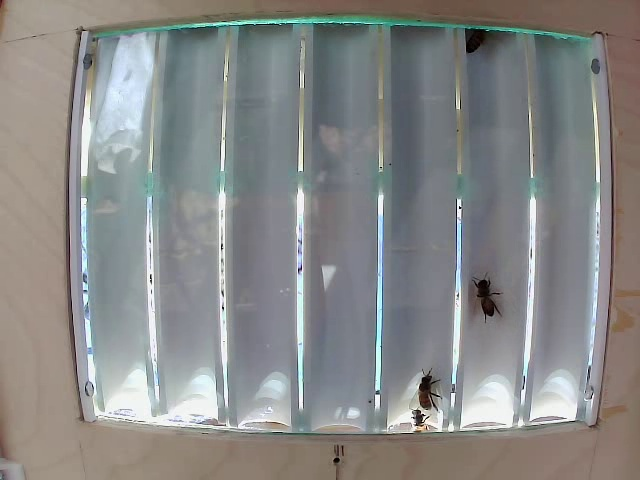bee: (463, 269, 509, 316), (412, 378, 452, 421)
